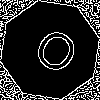O: (25, 25, 83, 85)
